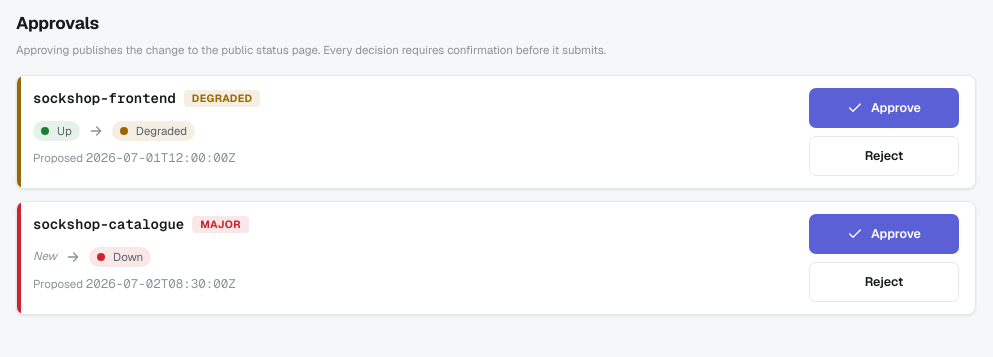
Test case: ApprovalsPage › requires confirmation before POSTing a reject, then refreshes the list on success (AC2)
Click the button "Reject" in the row of "2026-07-02T08:30:00Z". click: [884, 282]
box: [809, 262, 959, 302]
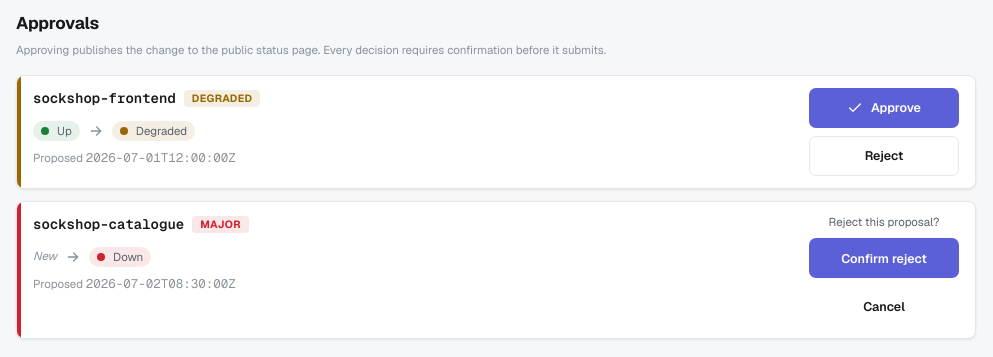
Click the button "Confirm reject". click: [884, 258]
box: [809, 238, 959, 278]
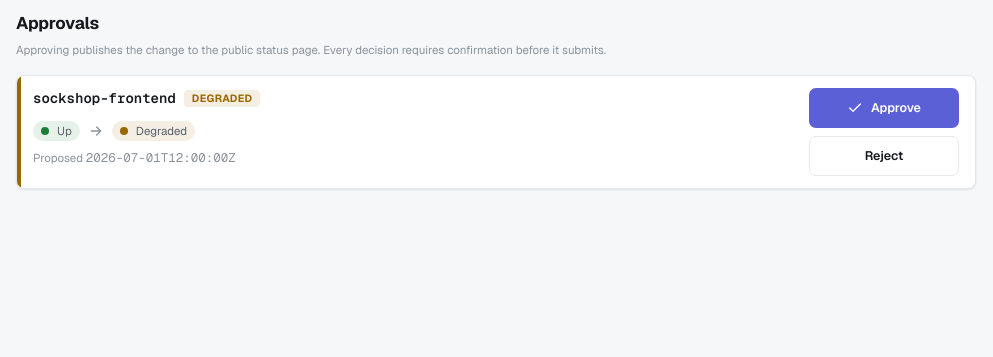
Expected: the text "sockshop-catalogue" is gone
